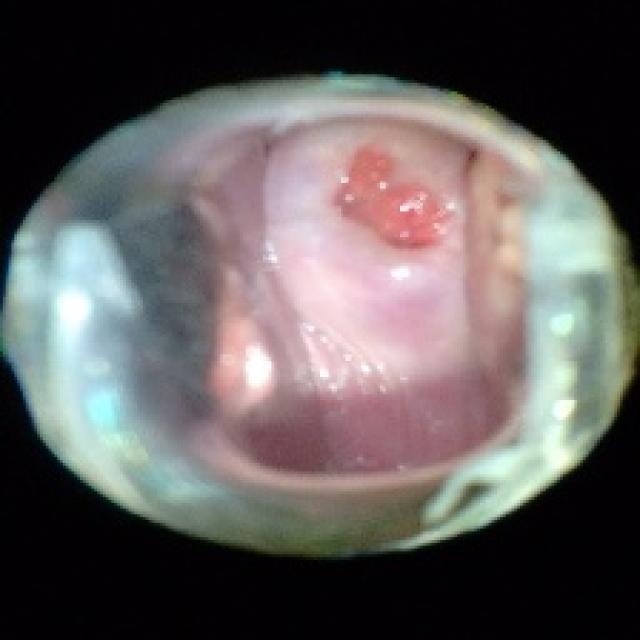type-2: (53, 92, 581, 521)
